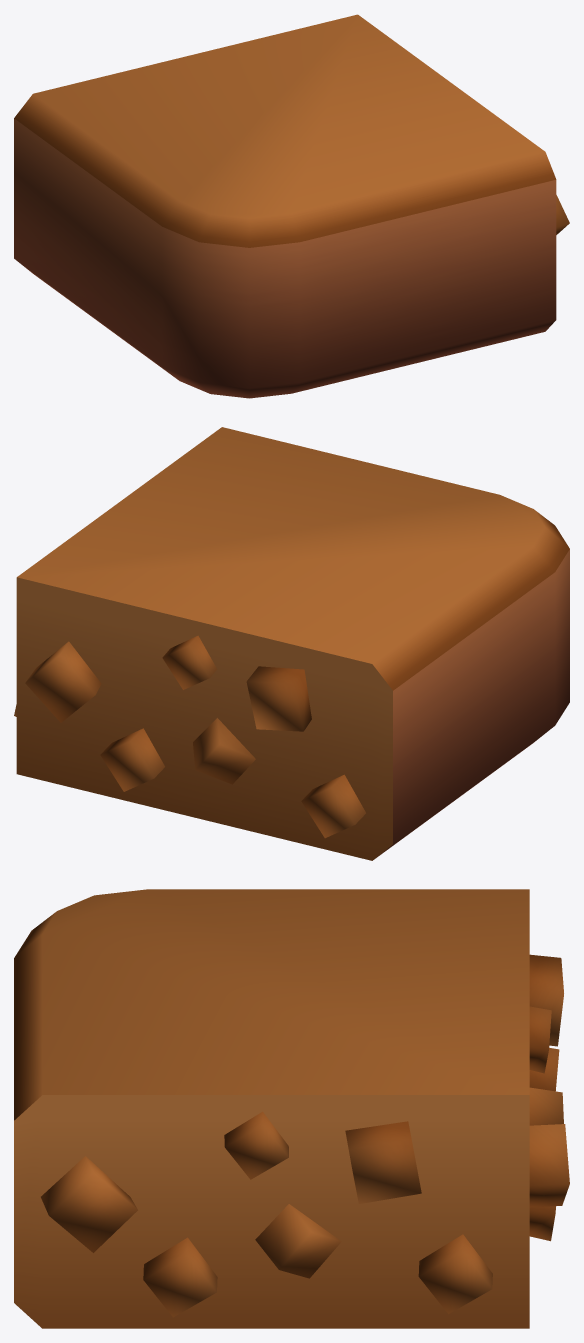
Rendered from m_Brownie04_Slice01.fbx.
3 views of the same model, one above another, from view 1: azimuth 30°, elevation 25°; view 2: azimuth 150°, elevation 25°; view 3: azimuth 270°, elevation 25° (orthographic). The views are drawn at different scales.
Parts seen in each view (by area): view 1: m_Brownie04_Slice01; view 2: m_Brownie04_Slice01; view 3: m_Brownie04_Slice01.
Part boxes in pixels (x1,y1,x2,y2): m_Brownie04_Slice01: (14,14,569,398); m_Brownie04_Slice01: (14,427,569,860); m_Brownie04_Slice01: (14,889,569,1328).
Size of the model in its own units: 10.78 by 5 by 10.78.
